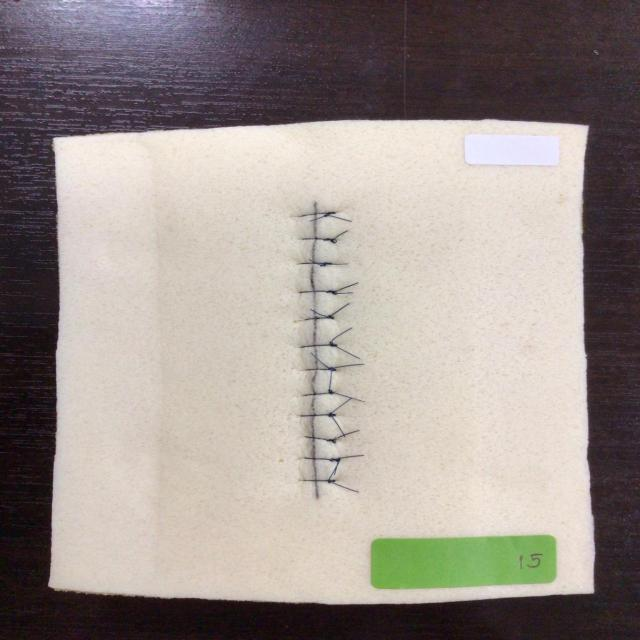knot: (321, 236, 340, 246), (321, 210, 339, 219), (317, 260, 335, 268), (324, 288, 339, 296), (331, 455, 344, 464), (327, 340, 340, 349), (325, 365, 339, 373), (324, 313, 337, 321), (324, 437, 337, 445), (326, 411, 338, 419), (325, 478, 338, 485), (326, 389, 337, 396)
leftover: (326, 388, 367, 403), (328, 326, 354, 346), (331, 343, 361, 360), (328, 396, 353, 416), (308, 351, 332, 370), (329, 413, 347, 438), (330, 428, 361, 441), (330, 480, 360, 493), (327, 302, 351, 318), (324, 211, 353, 223), (333, 281, 360, 293), (307, 211, 333, 223), (327, 459, 340, 482), (329, 362, 366, 370), (308, 307, 331, 319), (330, 229, 350, 241), (329, 457, 340, 476), (327, 366, 334, 394), (307, 258, 327, 267), (337, 454, 366, 460), (332, 290, 354, 296), (329, 262, 350, 265), (330, 436, 337, 444)
stitch: (298, 211, 335, 218), (302, 456, 342, 462), (301, 390, 334, 397), (303, 435, 335, 442), (302, 314, 332, 321), (298, 343, 335, 348), (298, 261, 333, 266), (300, 237, 334, 242), (297, 290, 337, 294), (304, 366, 334, 371), (298, 413, 334, 417), (300, 479, 334, 483)
wound: (309, 201, 319, 501)
